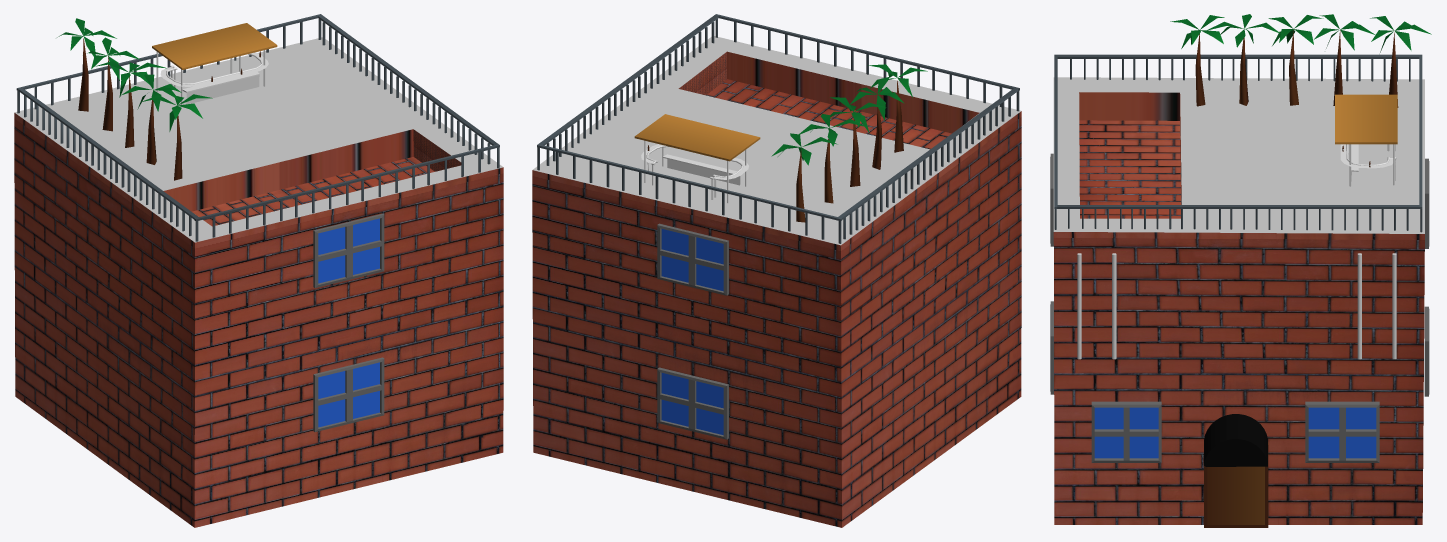
The model's file is CasaLucesText.fbx.
3 views of the same model, side by side, from view 1: azimuth 30°, elevation 25°; view 2: azimuth 150°, elevation 25°; view 3: azimuth 270°, elevation 25° (orthographic). The views are drawn at different scales.
Visible parts, largest first — view 1: Cubo, Cylinder.042, Cubo.010, Cubo.011, Cubo.002, Cubo.008, Cubo.007, Cube.006, Cube.005, Cube, Cube.002, Cube.004 (+1 smaller); view 2: Cubo, Cylinder.042, Cubo.003, Cubo.009, Cubo.006, Cubo.002, Cubo.008, Cubo.007, Cube.002, Cube.004, Cube.006, Cube.005 (+1 smaller); view 3: Cubo, Cubo.001, Cubo.004, Cubo.005, Cylinder.042, Cubo.008, Cubo.007, Cube.004, Cube.002, Cube, Cube.006, Cube.005 (+8 smaller).
Boxes of the visible parts, x1,y1,x2,y2 form: Cubo: (14, 37, 503, 527); Cylinder.042: (152, 23, 277, 104); Cubo.010: (313, 357, 384, 431); Cubo.011: (313, 213, 384, 287); Cubo.002: (194, 144, 499, 221); Cubo.008: (18, 88, 198, 219); Cubo.007: (318, 15, 498, 145); Cube.006: (57, 18, 116, 111); Cube.005: (87, 37, 140, 131); Cube: (141, 94, 212, 180); Cube.002: (121, 74, 181, 164); Cube.004: (95, 61, 166, 147); Cubo: (532, 36, 1021, 527); Cylinder.042: (634, 114, 760, 203); Cubo.003: (657, 367, 728, 439); Cubo.009: (657, 223, 728, 295); Cubo.006: (537, 144, 842, 221); Cubo.002: (715, 14, 1019, 90); Cubo.008: (838, 88, 1018, 219); Cubo.007: (539, 15, 718, 145); Cube.002: (850, 77, 904, 169); Cube.004: (830, 97, 886, 186); Cube.006: (771, 133, 837, 222); Cube.005: (799, 114, 865, 203); Cubo: (1053, 77, 1424, 524); Cubo.001: (1204, 414, 1268, 527); Cubo.004: (1305, 401, 1379, 462); Cubo.005: (1091, 401, 1161, 462); Cylinder.042: (1335, 94, 1397, 186); Cubo.008: (1057, 54, 1419, 58); Cubo.007: (1057, 205, 1419, 208); Cube.004: (1268, 15, 1323, 105); Cube.002: (1206, 14, 1280, 105); Cube: (1170, 15, 1224, 106); Cube.006: (1370, 16, 1431, 107); Cube.005: (1314, 14, 1375, 105).
Bounding box in the file's own units: 3532 × 3431 × 3176.
